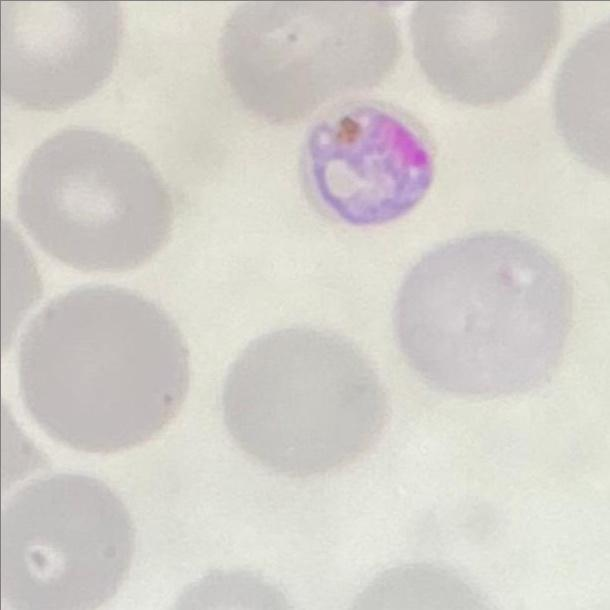Infected: (295, 97, 437, 231)
Uninfected: (392, 232, 572, 406), (17, 282, 191, 451), (222, 322, 385, 471), (218, 0, 406, 119), (18, 132, 173, 270), (0, 469, 127, 610), (412, 0, 559, 111), (0, 0, 122, 107)
